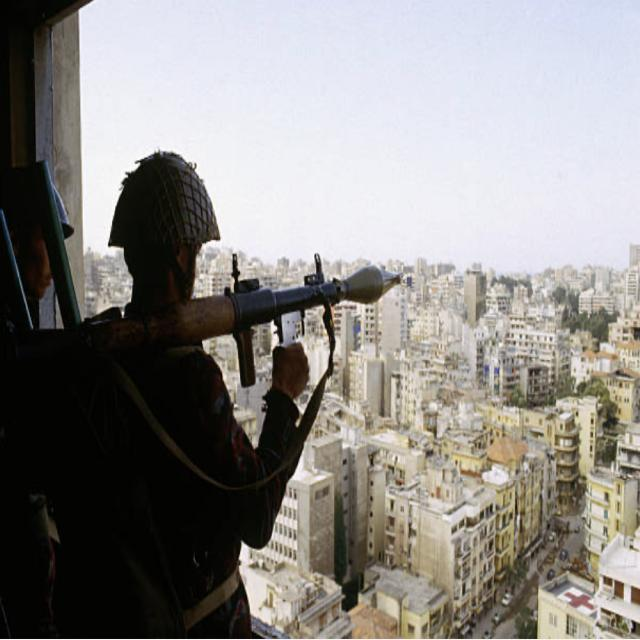bazooka: (15, 256, 408, 406)
